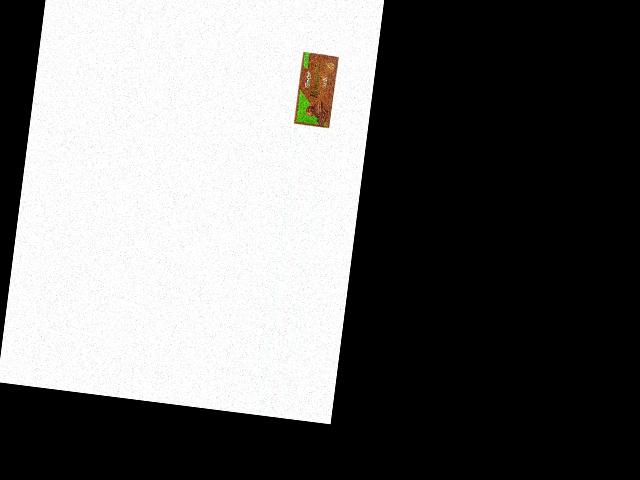chocolate: (292, 48, 342, 129)
